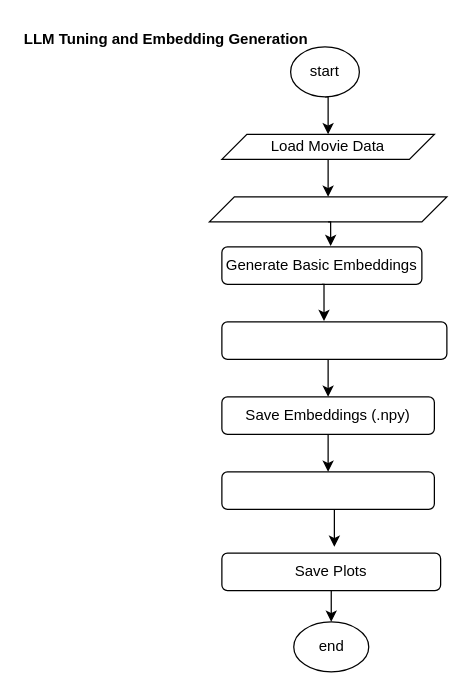
The diagram is 469 pixels wide and 694 high, and some of its shapes have lost their labels. The centre of each missing label's shape, as x and y in pixels:
Create Plots: [327,490]
Generate Augmented Embeddings: [334,340]
Load Models (MiniLM, GTR, BERT): [327,209]
